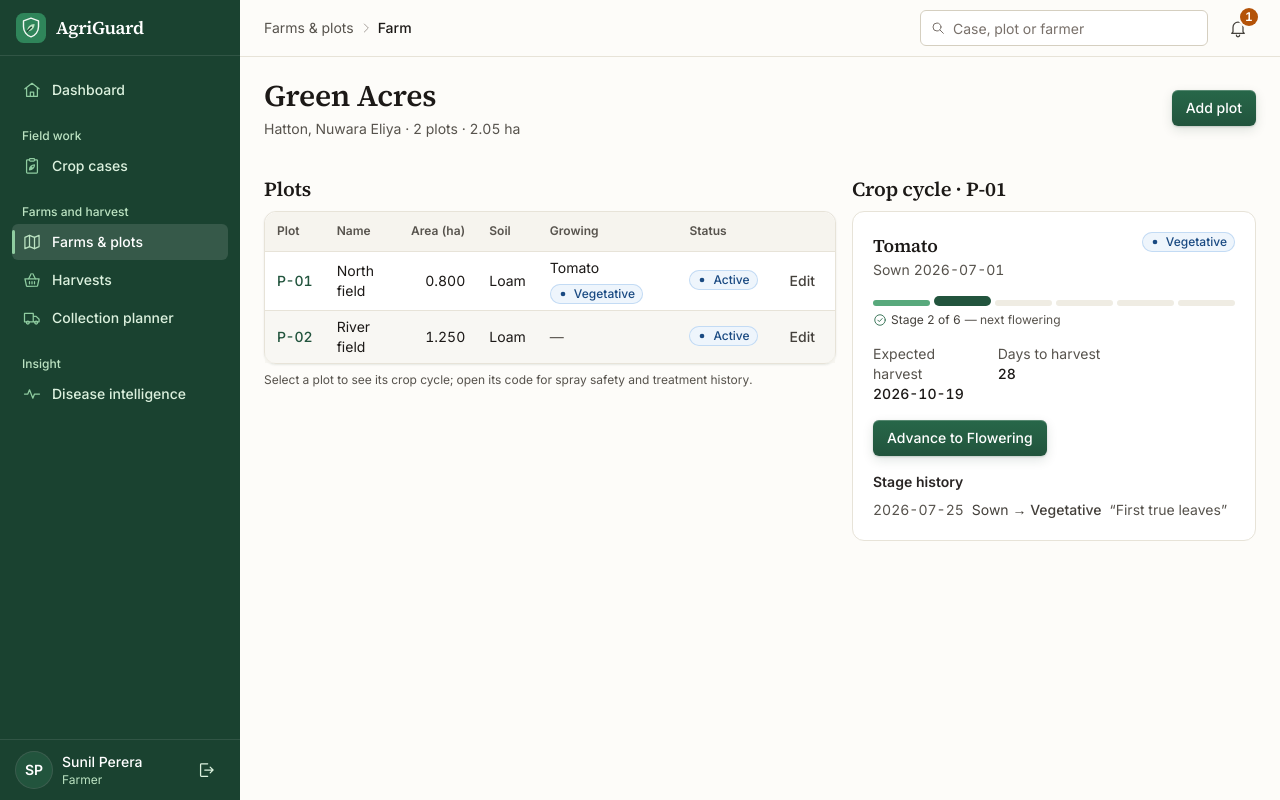
FarmDetailPage › advances a stage and sends the date the farmer gives
Click the button "Advance to Flowering" at (960, 438), box [873,420,1047,456]
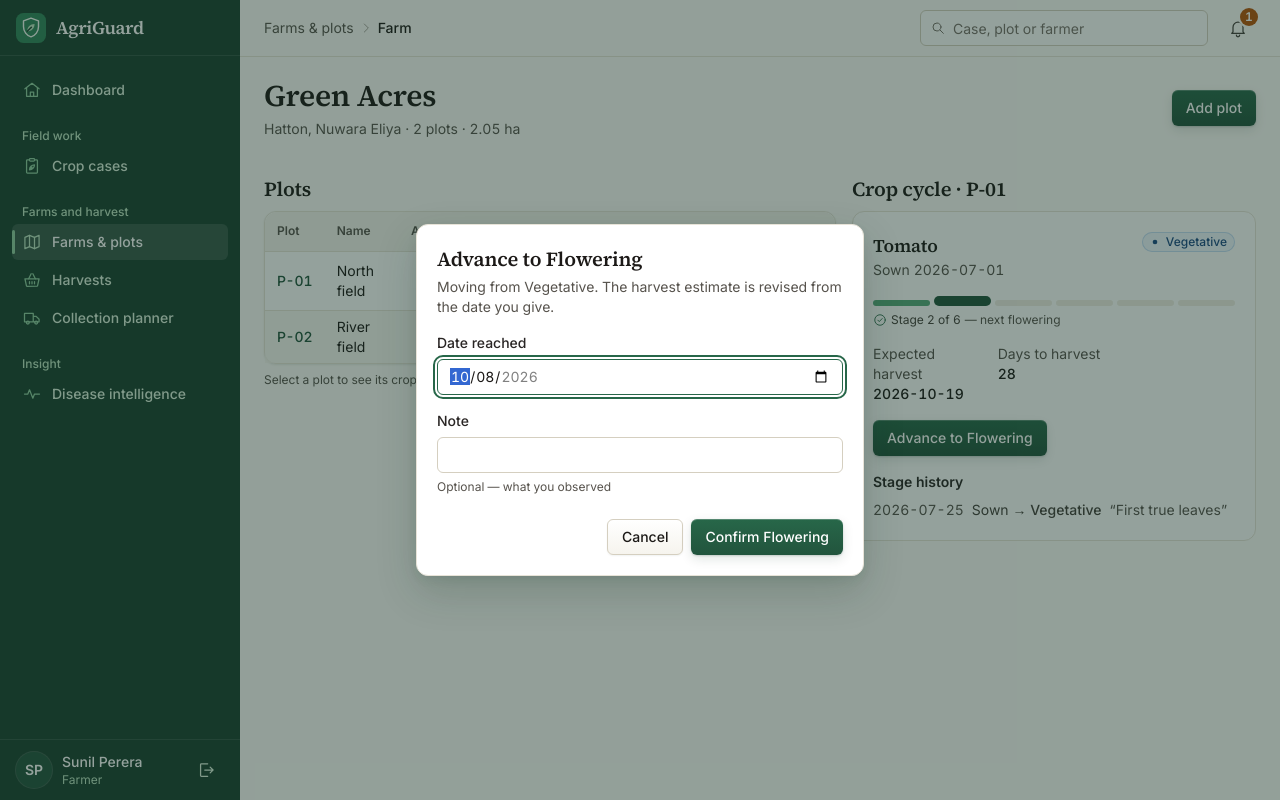
Type "First flowers" into the field labelled "Note" at (640, 455), box [437,437,843,473]
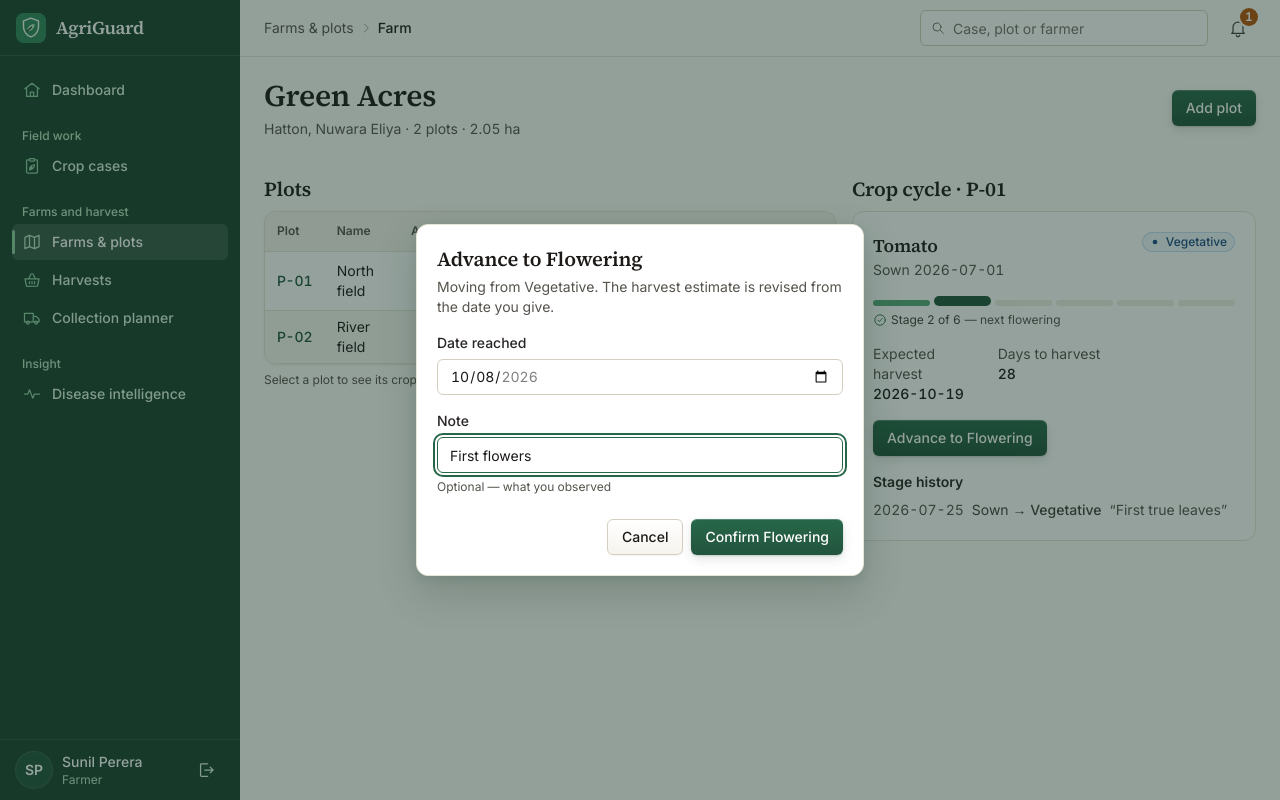
Click the button "Confirm Flowering" at (767, 537), box [691,519,843,555]
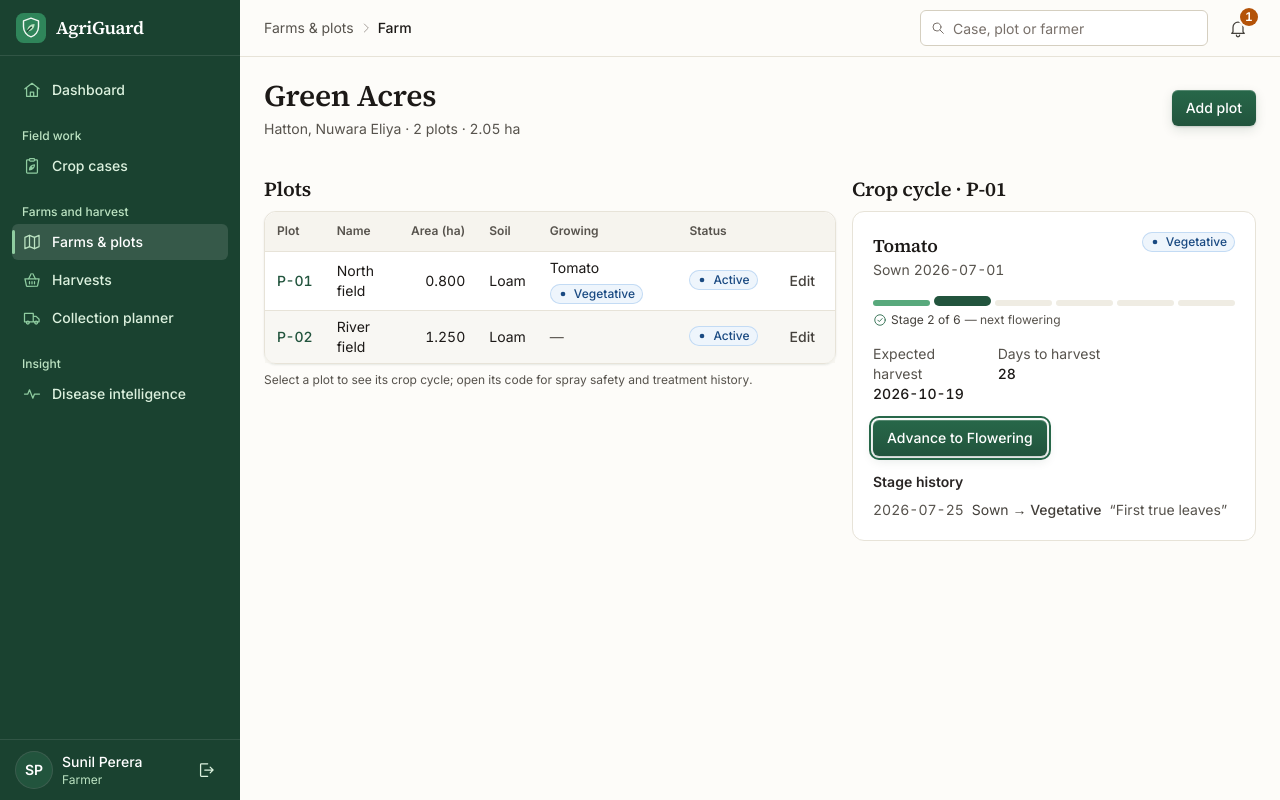
Check: the dialog is gone
